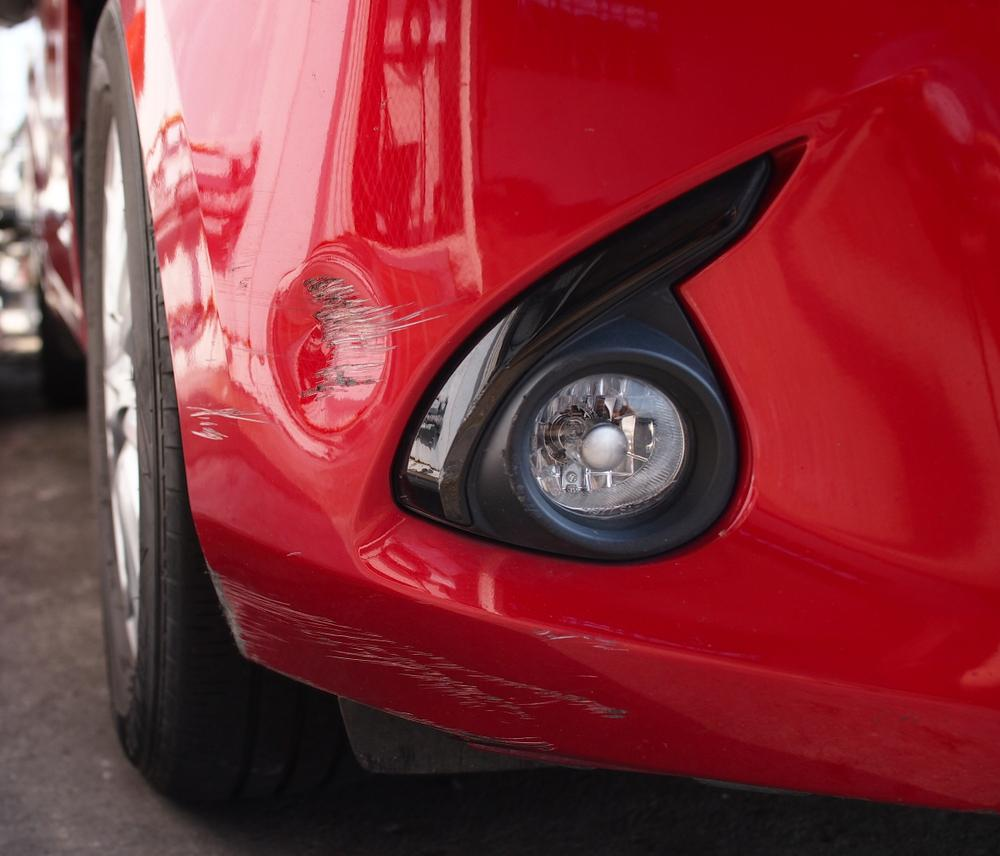dent: (270, 255, 395, 442)
scratch: (205, 573, 640, 760), (175, 253, 290, 446)
